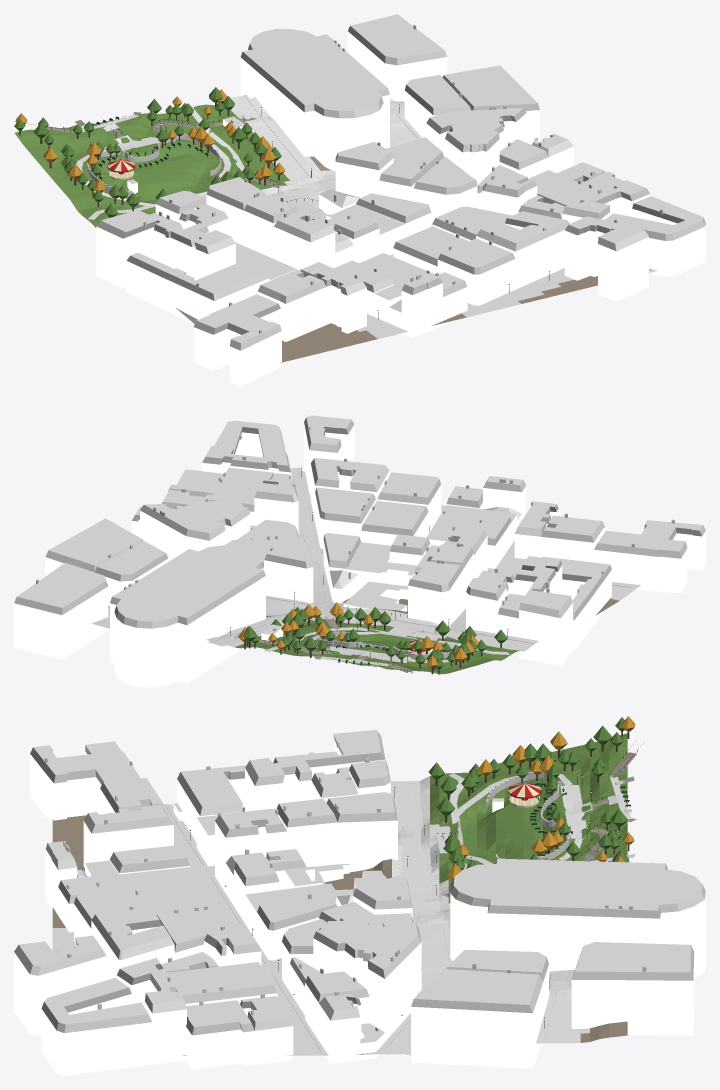
Rendered from zone_F3.glb.
The picture shows the model from 3 angles, top to bottom: view 1: azimuth 30°, elevation 25°; view 2: azimuth 150°, elevation 25°; view 3: azimuth 270°, elevation 25°; orthographic projection. The views are drawn at different scales.
Visible parts, largest first — view 1: zone_F3_batiments, zone_F3_terrain, zone_F3_decor_NOCOL, zone_F3_sol_NOCOL; view 2: zone_F3_batiments, zone_F3_sol_NOCOL, zone_F3_terrain, zone_F3_decor_NOCOL; view 3: zone_F3_batiments, zone_F3_terrain, zone_F3_sol_NOCOL, zone_F3_decor_NOCOL.
Part boxes in pixels (x1,y1,x2,y2): zone_F3_batiments: (87, 14, 705, 386); zone_F3_terrain: (14, 74, 657, 362); zone_F3_decor_NOCOL: (14, 87, 549, 319); zone_F3_sol_NOCOL: (46, 94, 652, 335); zone_F3_batiments: (14, 415, 705, 687); zone_F3_sol_NOCOL: (91, 467, 632, 672); zone_F3_terrain: (104, 471, 640, 674); zone_F3_decor_NOCOL: (230, 468, 508, 674); zone_F3_batiments: (14, 730, 705, 1075); zone_F3_terrain: (52, 733, 627, 1055); zone_F3_sol_NOCOL: (53, 752, 636, 1055); zone_F3_decor_NOCOL: (189, 716, 643, 1028).
Bounding box in the file's own units: 215 × 34.62 × 220.
